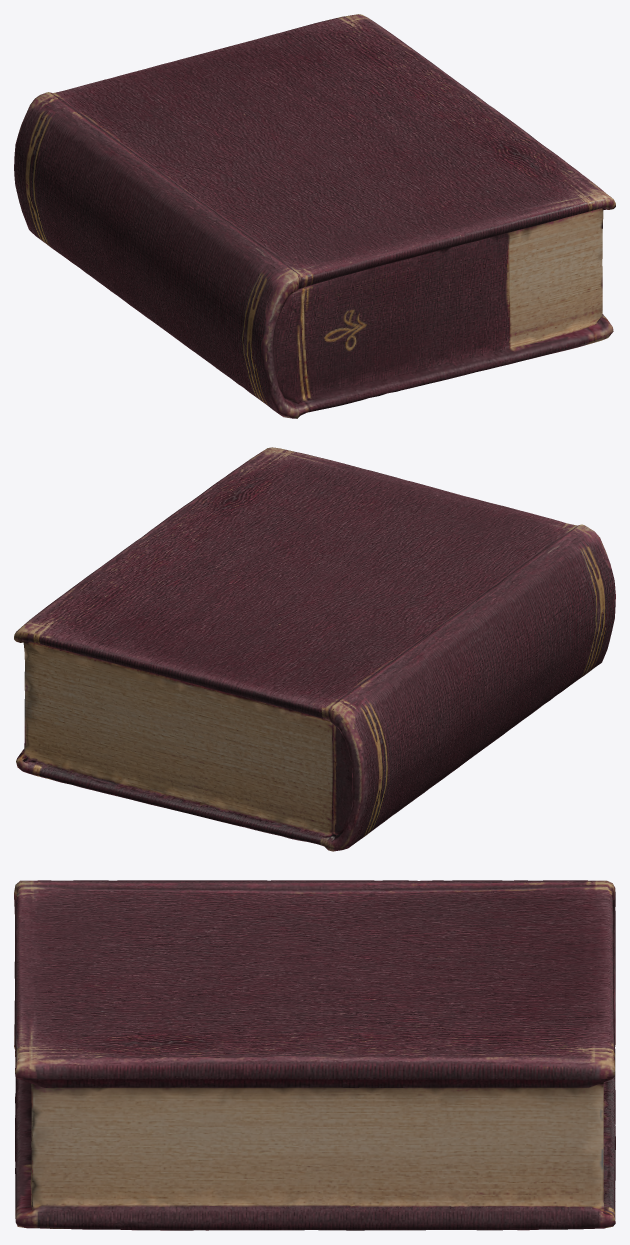
File: Prop_Book4.fbx
The picture shows the model from 3 angles, top to bottom: view 1: azimuth 30°, elevation 25°; view 2: azimuth 150°, elevation 25°; view 3: azimuth 270°, elevation 25°; orthographic projection. The views are drawn at different scales.
Visible parts, largest first — view 1: texture_mapping; view 2: texture_mapping; view 3: texture_mapping.
Part boxes in pixels (left/top/right/bottom): texture_mapping: left=14, top=14, right=615, bottom=418; texture_mapping: left=14, top=447, right=615, bottom=851; texture_mapping: left=14, top=880, right=615, bottom=1230.
Bounding box in the file's own units: 0.7999 × 1 × 0.3234.
1 material, 1 textured.
